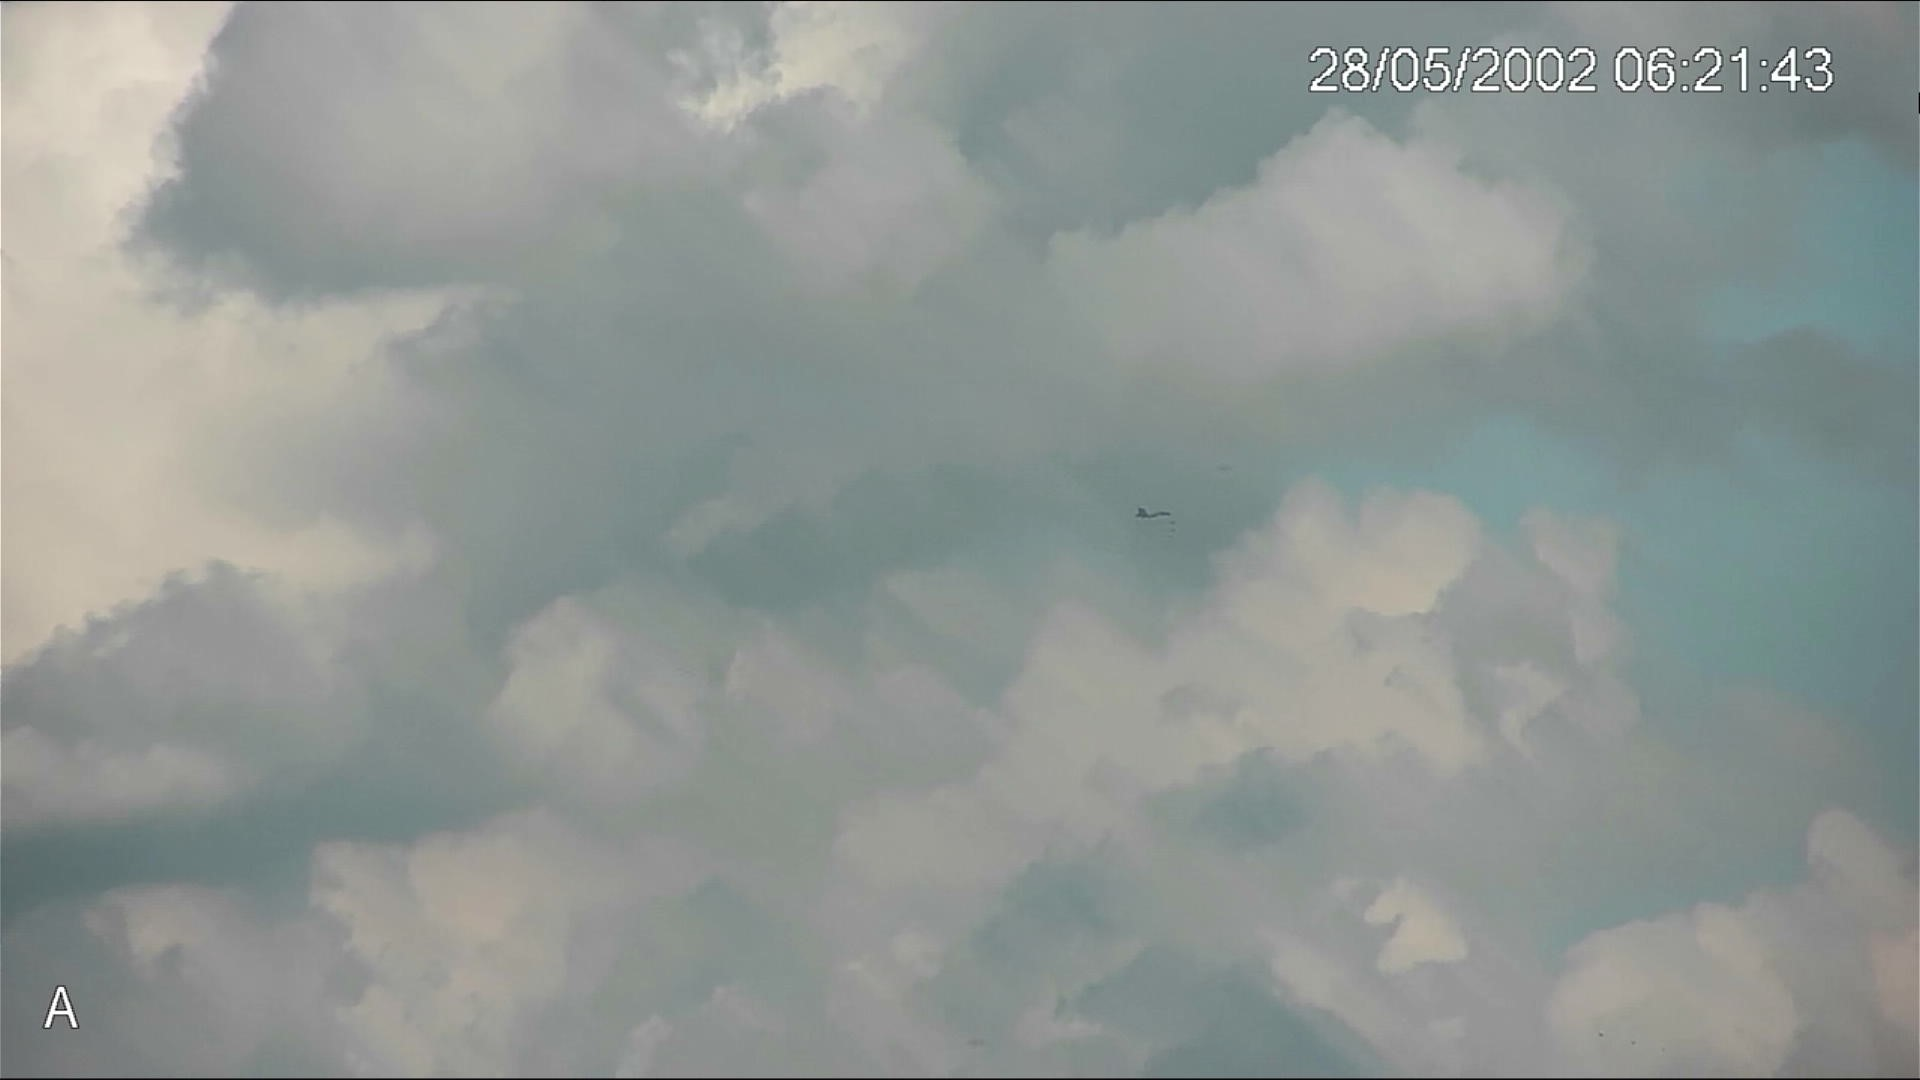SU_30: (1134, 502, 1175, 522)
